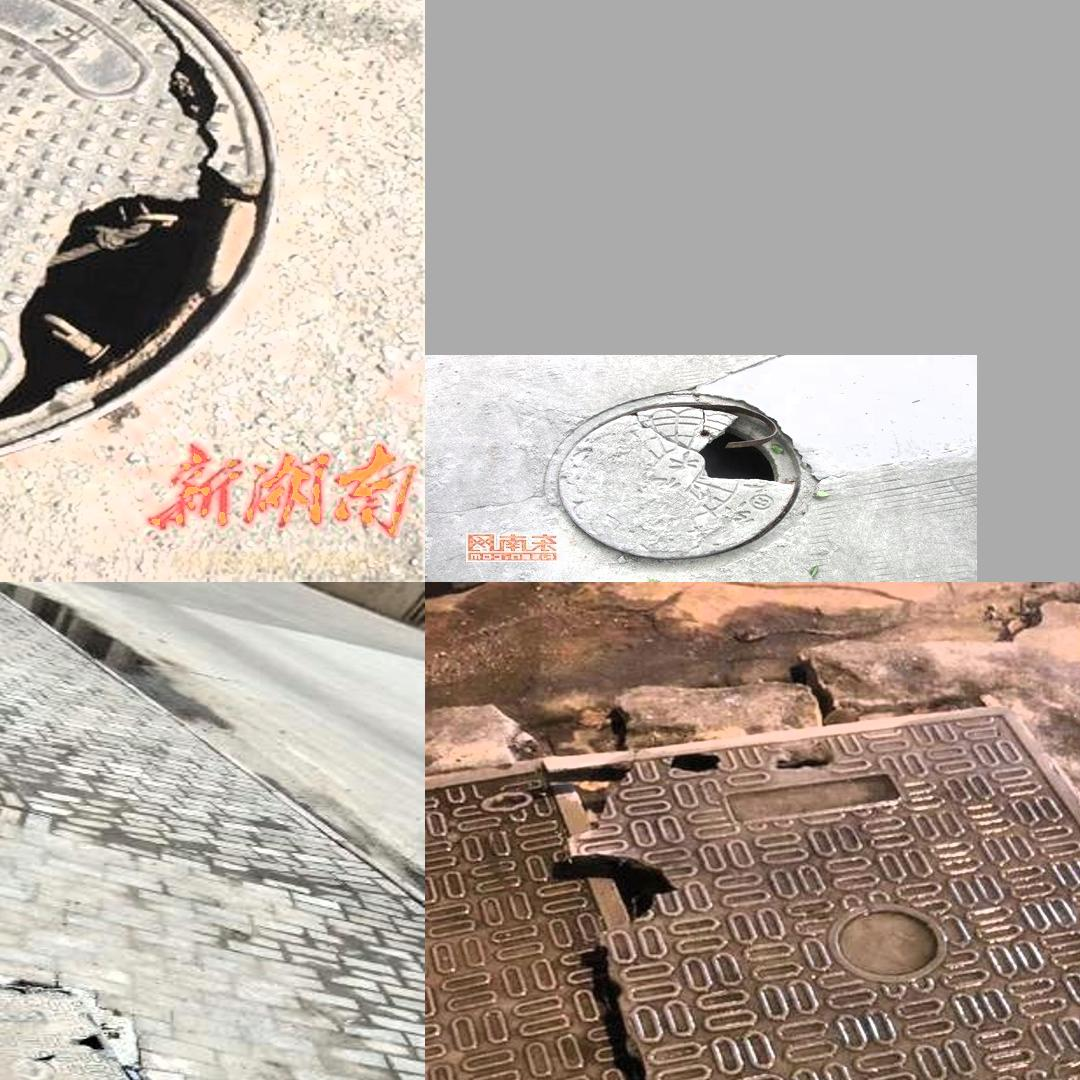broke: (442, 662, 1080, 1080), (0, 0, 278, 472), (532, 384, 827, 575), (0, 965, 214, 1080)
